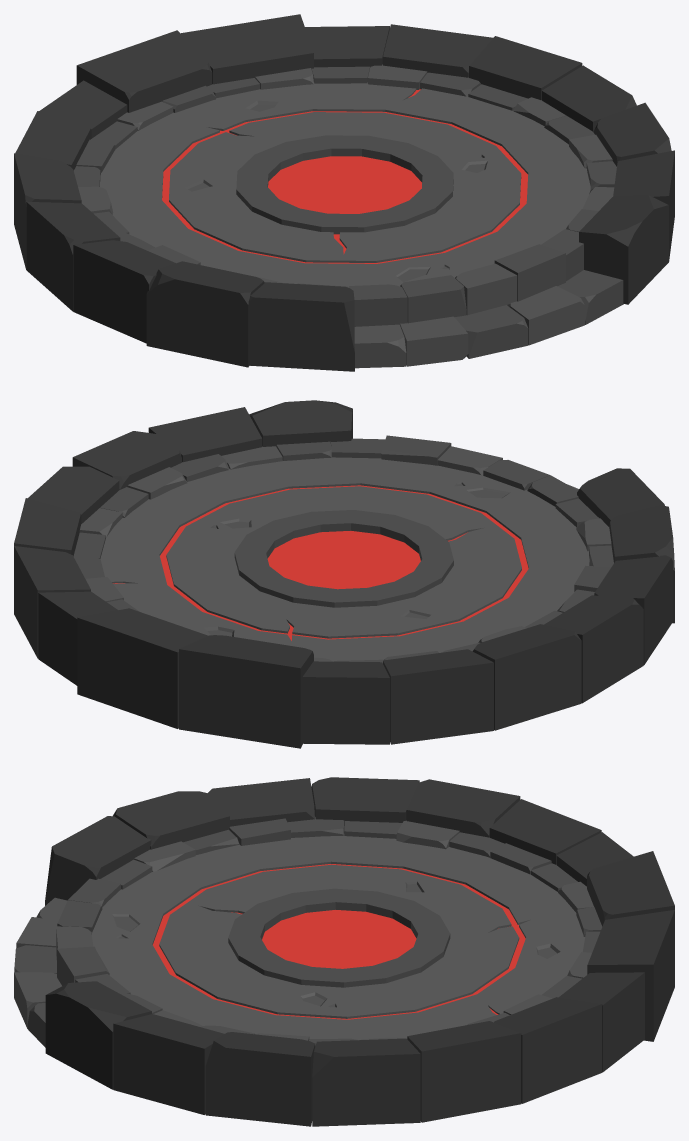
The model's file is Respawn_02.fbx.
The picture shows the model from 3 angles, top to bottom: view 1: azimuth 30°, elevation 25°; view 2: azimuth 150°, elevation 25°; view 3: azimuth 270°, elevation 25°; orthographic projection.
Visible parts, largest first — view 1: Respawn_02_LOD0; view 2: Respawn_02_LOD0; view 3: Respawn_02_LOD0.
Part boxes in pixels (<box>): Respawn_02_LOD0: <box>14,14,674,371</box>; Respawn_02_LOD0: <box>14,400,674,748</box>; Respawn_02_LOD0: <box>14,777,674,1126</box>.
Size of what is drawn, in the model's own units: 519 by 69.88 by 516.
